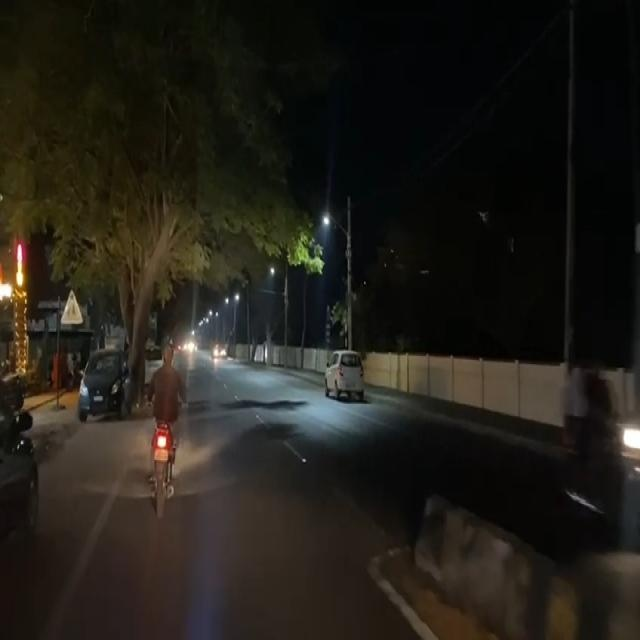bien_nguy_hiem: (59, 287, 84, 327)
